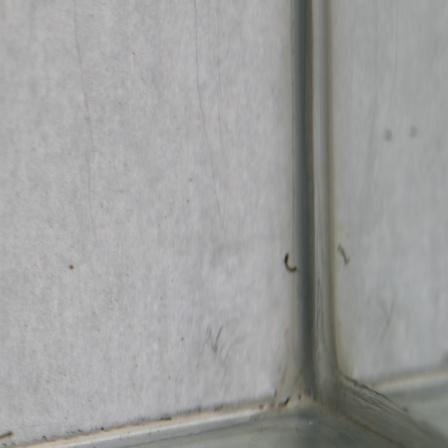Jentik-Nyamuk: (281, 250, 300, 275)
